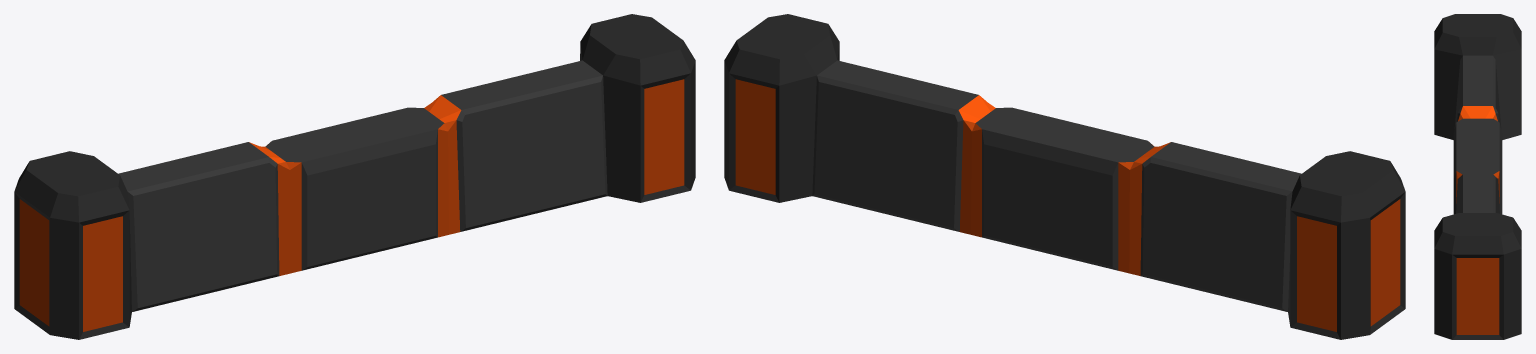
File: Wall02.fbx
3 views of the same model, side by side, from view 1: azimuth 30°, elevation 25°; view 2: azimuth 150°, elevation 25°; view 3: azimuth 270°, elevation 25° (orthographic). The views are drawn at different scales.
Parts seen in each view (by area): view 1: Wall02; view 2: Wall02; view 3: Wall02.
Boxes of the visible parts, x1,y1,x2,y2 form: Wall02: (14, 14, 695, 339); Wall02: (724, 14, 1405, 339); Wall02: (1434, 14, 1521, 339).
Bounding box in the file's own units: 612 × 125 × 98.78.
